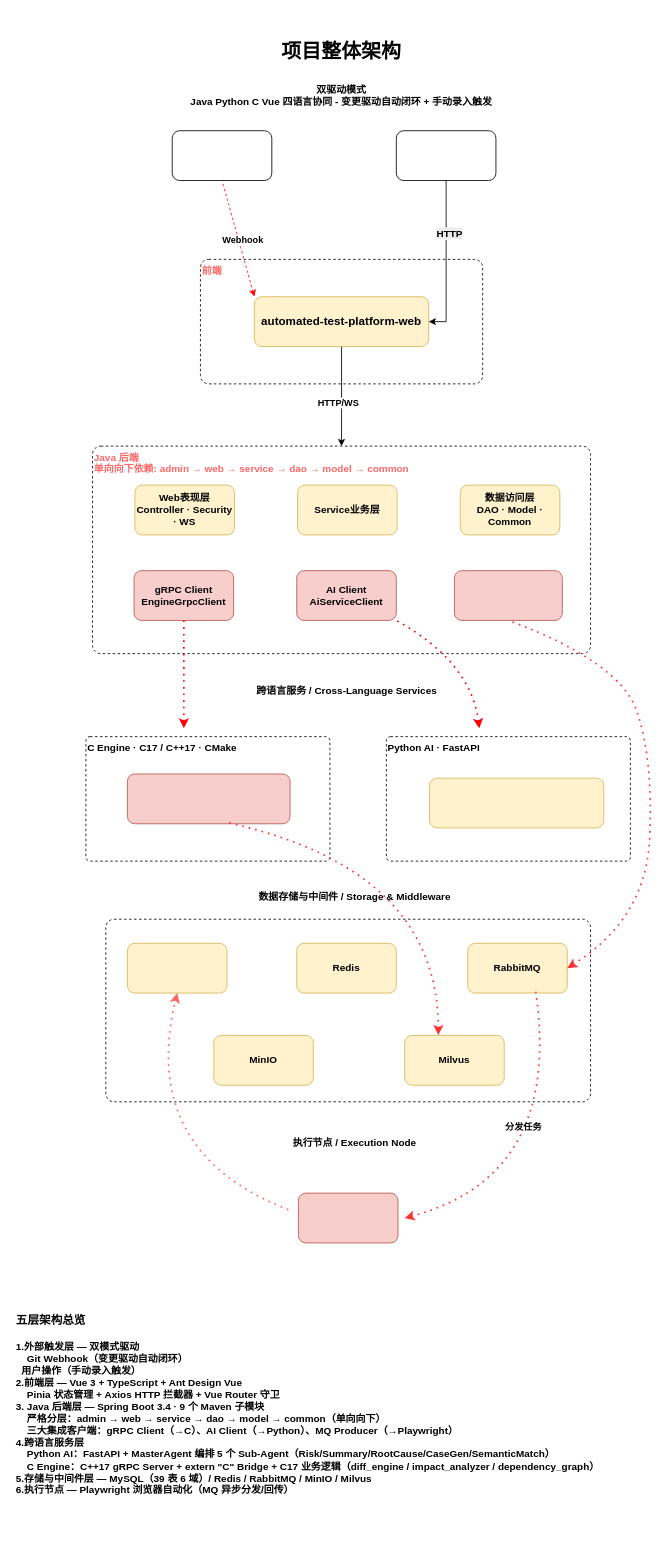
The diagram is 665 pixels wide and 1555 high, and some of its shapes have lost their labels. Each missing label, with the centre of its shape:
"Git Webhook 代码变更自动模式" belongs at point 221,155.
"gRPC Server (C++17 · port 9090)" belongs at point 516,802.
"MasterAgent(编排 · 调度 · 聚合)" belongs at point 208,798.
"MQ Producer TaskMessageProducer" belongs at point 508,595.
"MySQL" belongs at point 177,967.
"Playwright 浏览器自动化执行" belongs at point 348,1217.
"用户录入 手动录入触发模式" belongs at point 445,155.
